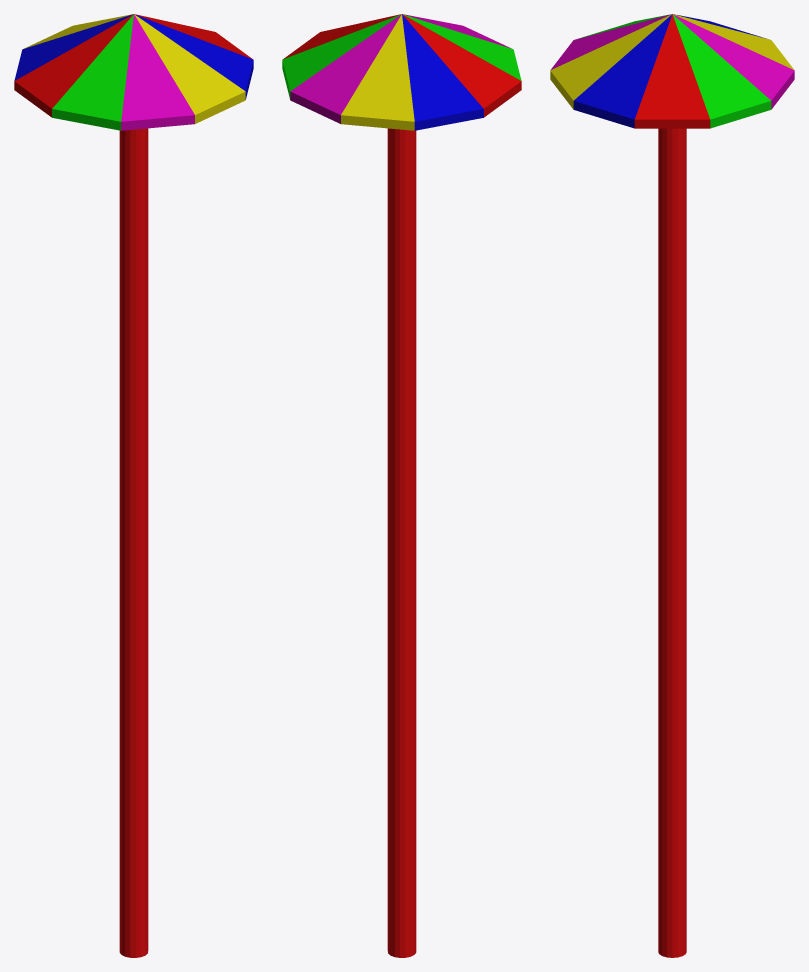
File: devil wheel2.fbx
3 views of the same model, side by side, from view 1: azimuth 30°, elevation 25°; view 2: azimuth 150°, elevation 25°; view 3: azimuth 270°, elevation 25° (orthographic).
Parts seen in each view (by area): view 1: Cylinder; view 2: Cylinder; view 3: Cylinder.
Boxes of the visible parts, x1,y1,x2,y2 form: Cylinder: (14, 14, 253, 957); Cylinder: (282, 14, 521, 957); Cylinder: (550, 14, 794, 957).
Bounding box in the file's own units: 5.36 × 23.84 × 5.63.
